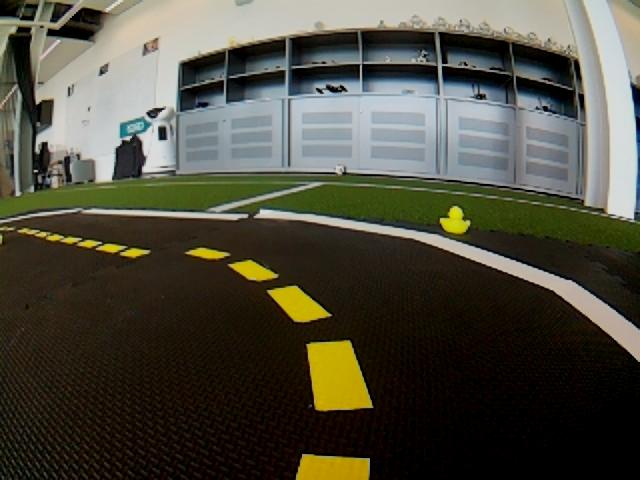Duckies: (441, 209, 471, 234)
